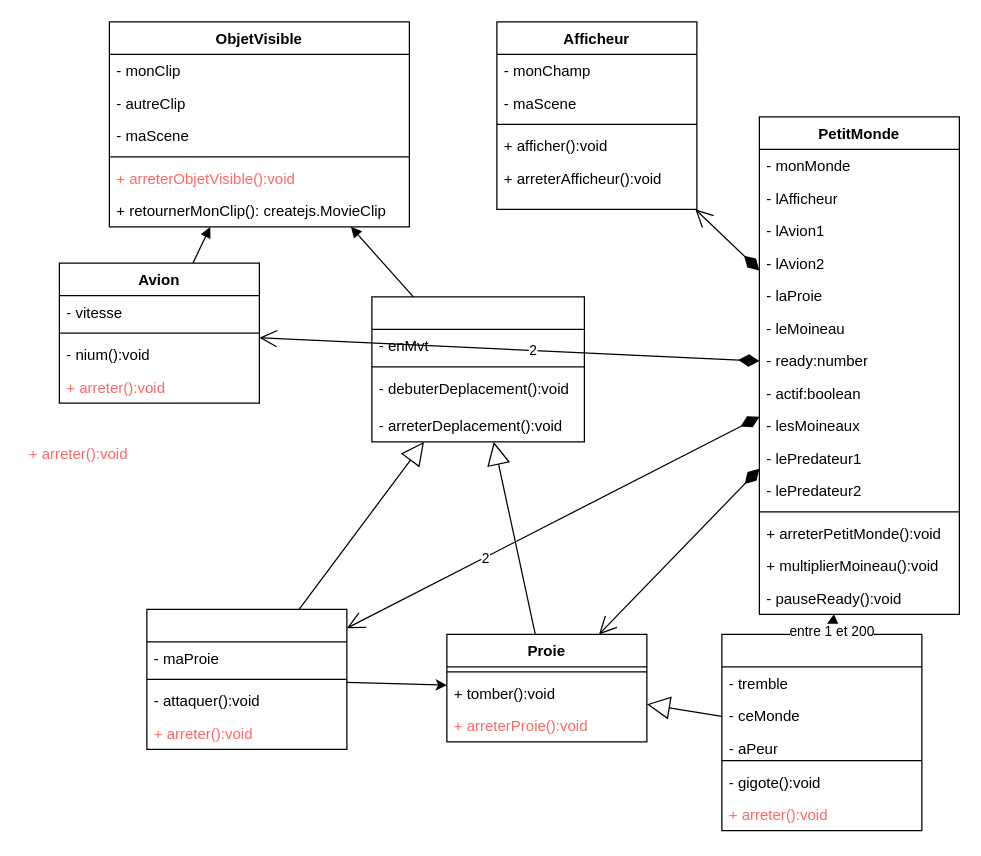
This 981x856 diagram has some shape labels left out. The shapes that lost their labels are listed below. From the top down, each one's box as (x1, y1, x2, y2) in pixels, then its label:
(371, 296, 584, 442): Animal
(146, 608, 347, 749): Prédateur
(721, 633, 922, 831): Moineau
